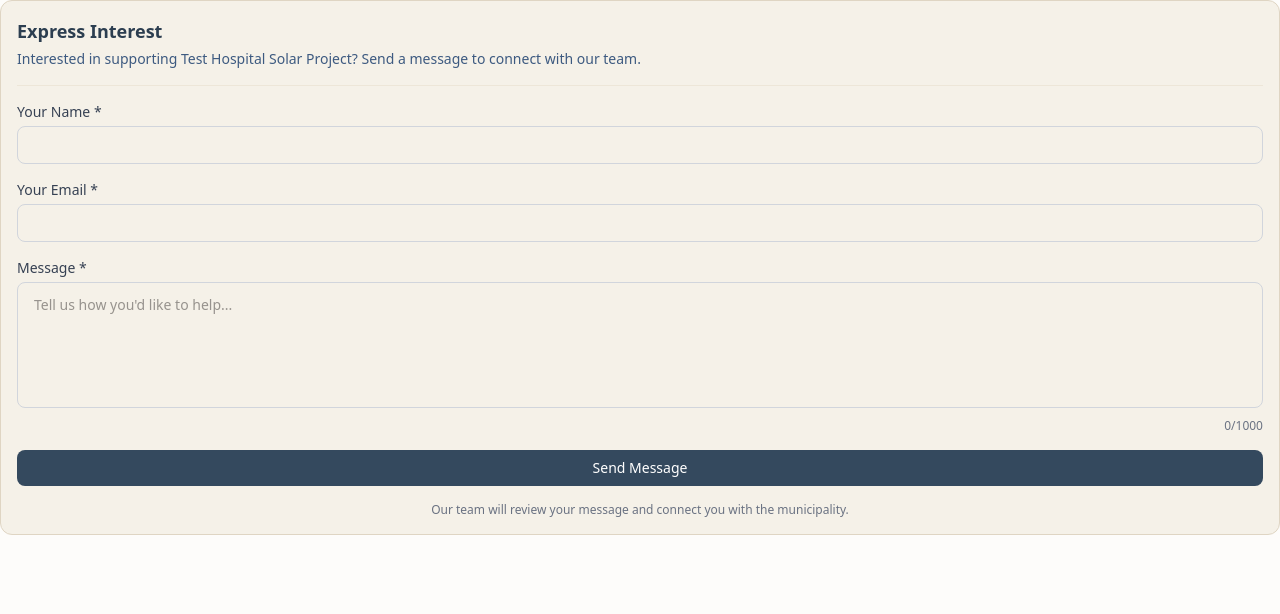
ContactForm › Form submission › shows error message on API failure
Type "John Doe" into the field labelled "Your Name *" at (640,145), box left=17, top=126, right=1263, bottom=164
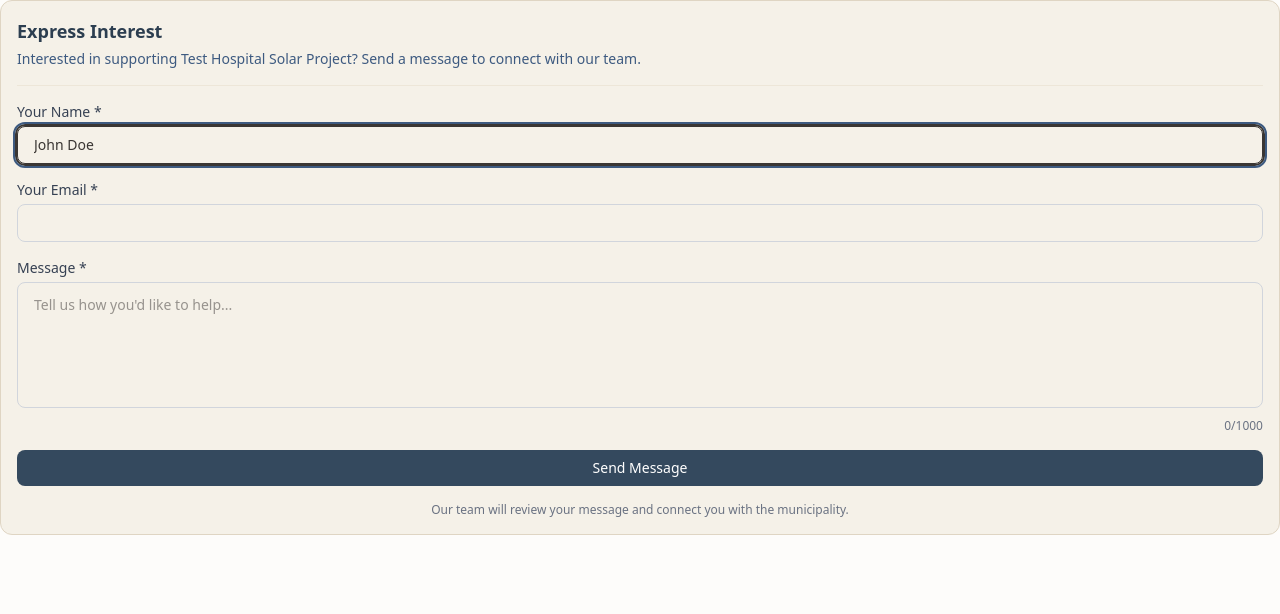
Type "john@example.com" into the field labelled "Your Email *" at (640,223), box left=17, top=204, right=1263, bottom=242
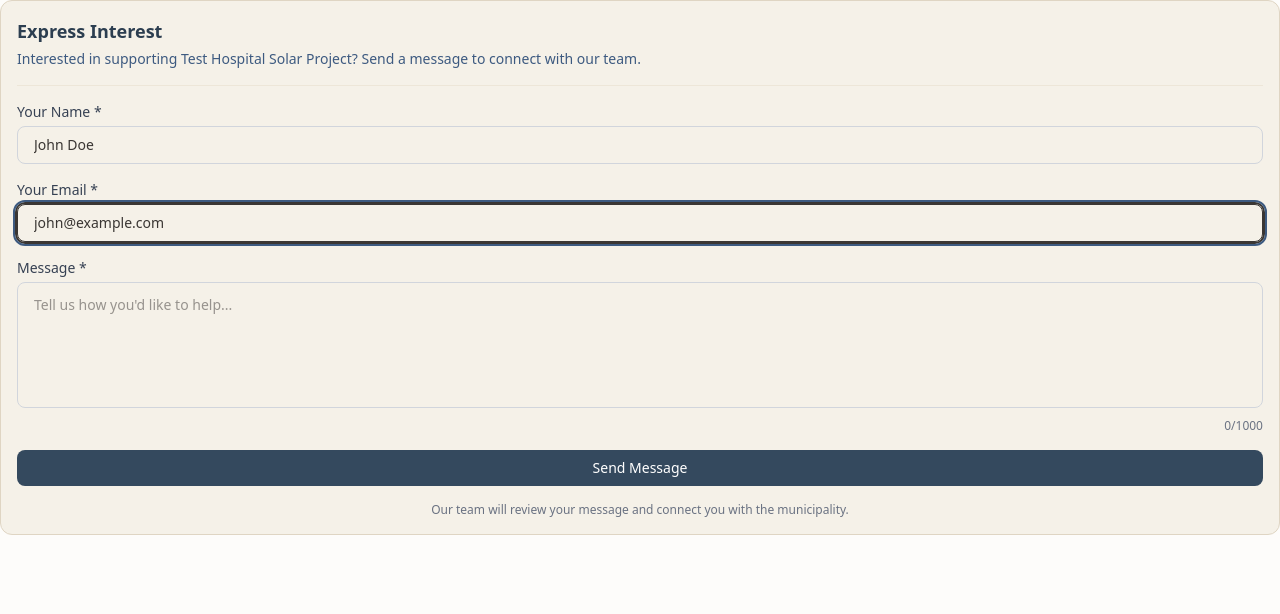
Type "This is a detailed message about how I want to help." into the text box labelled "Message *" at (640,345), box left=17, top=282, right=1263, bottom=408
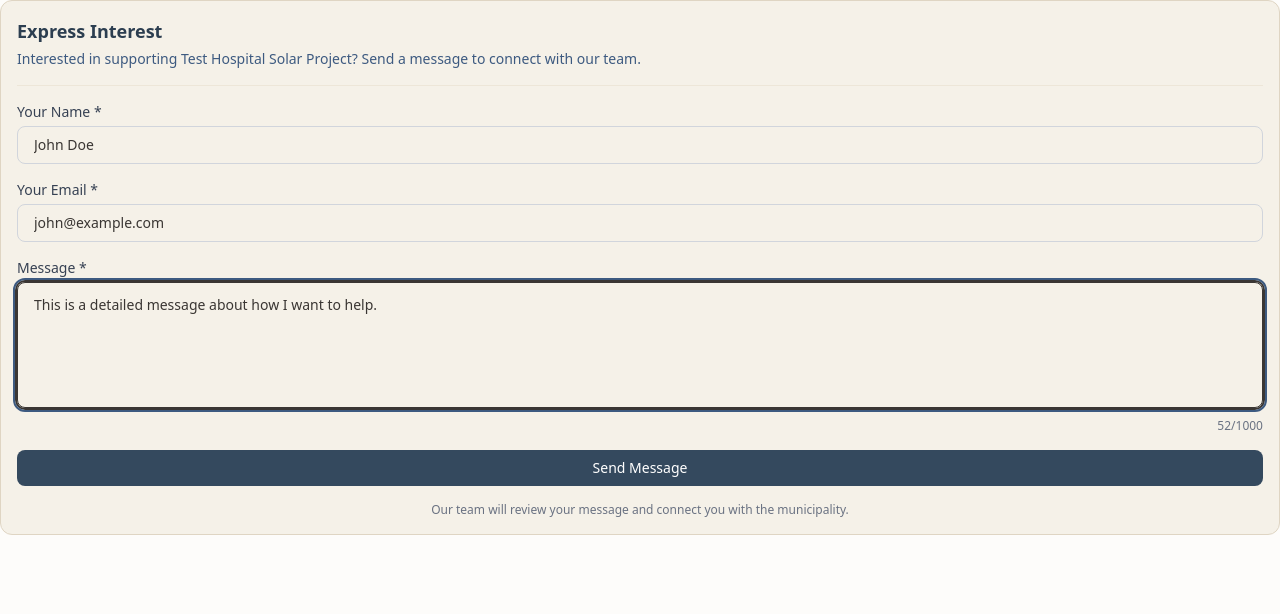
Click the button "Send Message" at (640,468), box left=17, top=450, right=1263, bottom=486
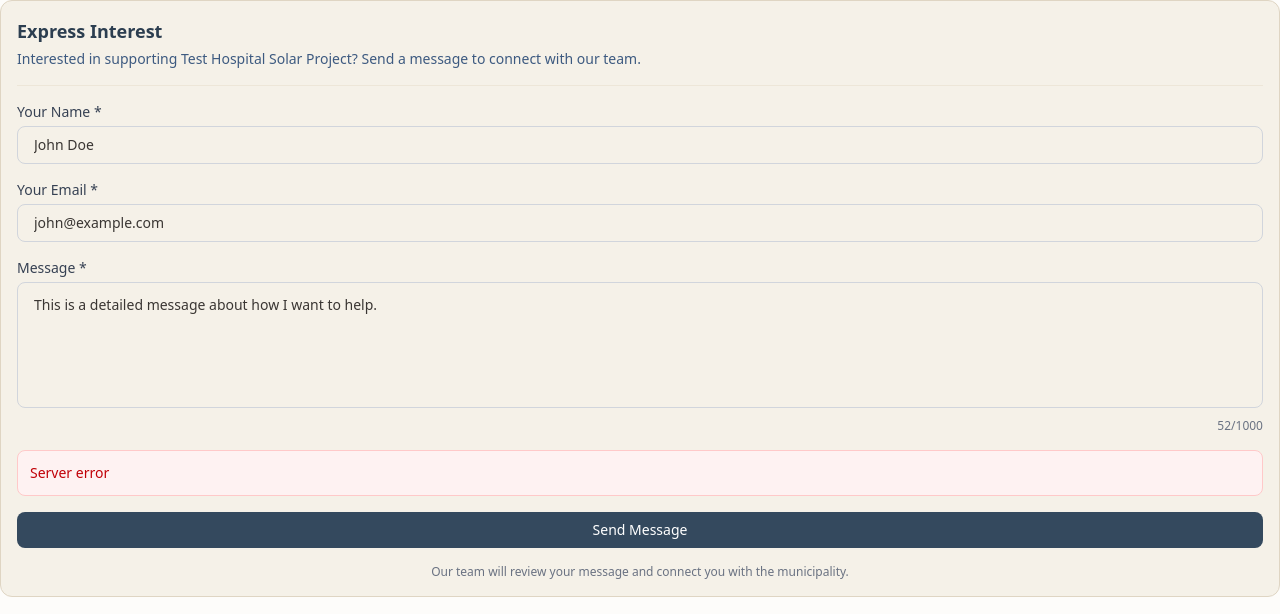
Result: the text "Server error" is shown at left=17, top=450, right=1263, bottom=496
